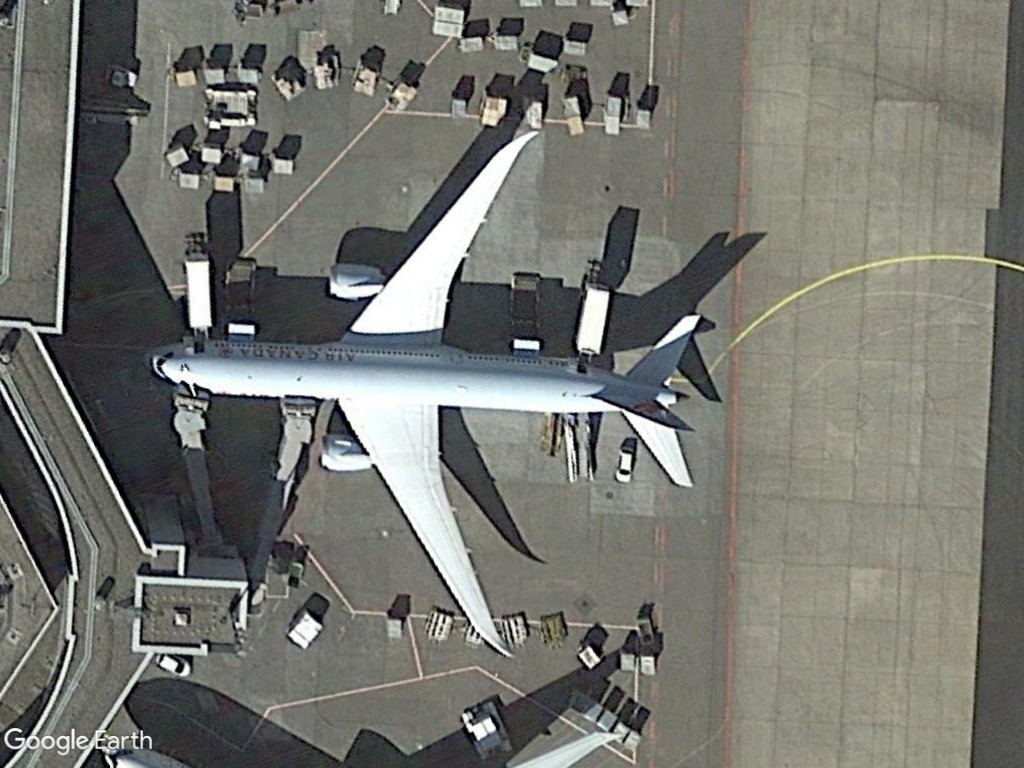airliner: (131, 113, 725, 672)
